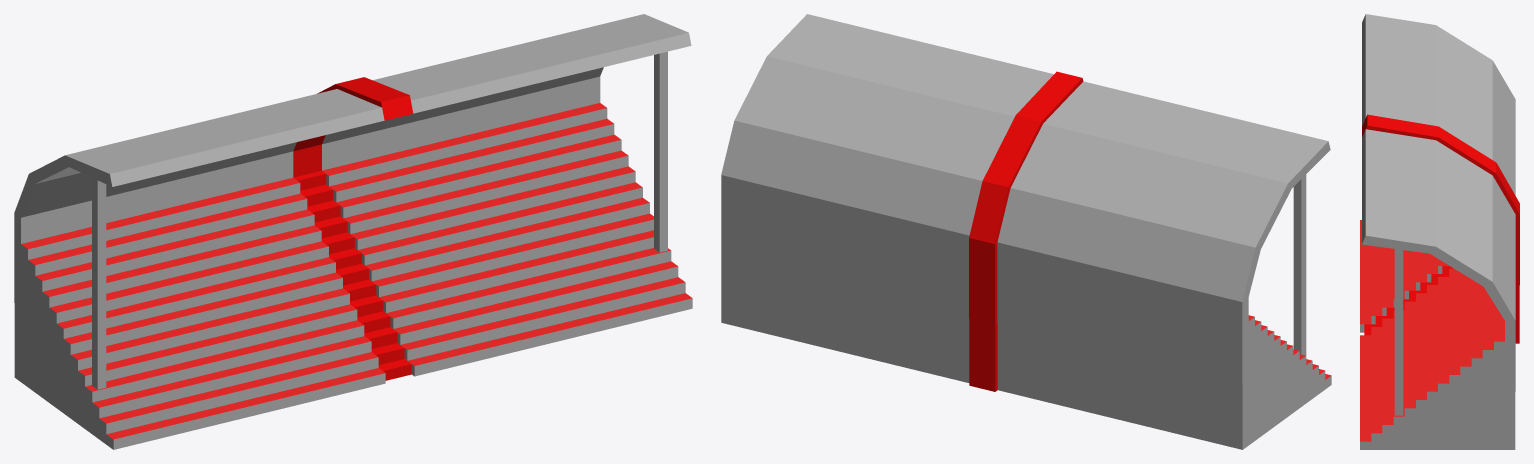
File: GrandStand_big.fbx
The picture shows the model from 3 angles, left to right: view 1: azimuth 30°, elevation 25°; view 2: azimuth 150°, elevation 25°; view 3: azimuth 270°, elevation 25°; orthographic projection. The views are drawn at different scales.
Parts seen in each view (by area): view 1: grand stand 1; view 2: grand stand 1; view 3: grand stand 1.
Boxes of the visible parts, box(x1,y1,x2,y2) form: grand stand 1: box(14, 14, 692, 449); grand stand 1: box(721, 14, 1331, 449); grand stand 1: box(1360, 14, 1519, 449).
Size of the model in its own units: 3244 by 1488 by 989.
Materials: 1 (1 with a texture image).
